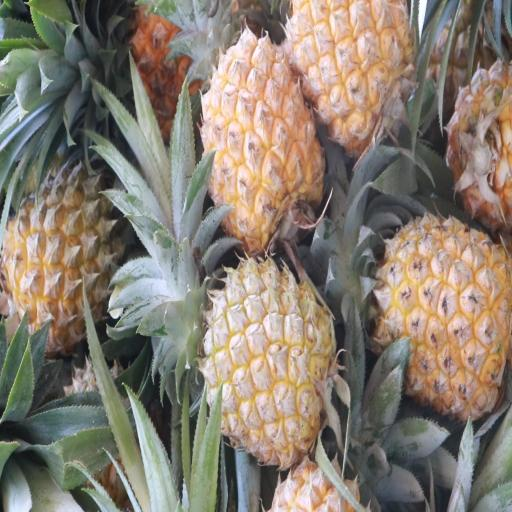------------------------------: (0, 165, 125, 343)
Pineapple - v8 v1: (208, 250, 339, 465), (197, 34, 324, 245), (378, 219, 509, 416), (290, 3, 414, 147)
